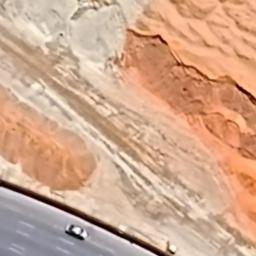sedan: (63, 222, 91, 244)
